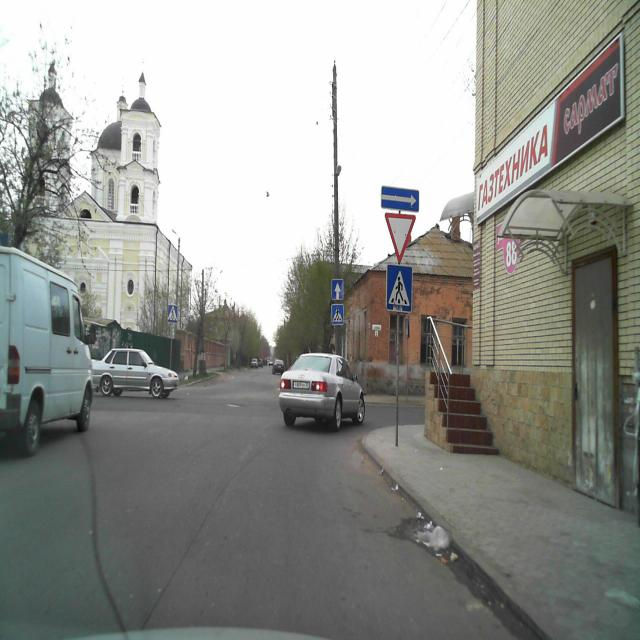road sign: (385, 213, 416, 263), (386, 262, 413, 313), (380, 185, 420, 212), (332, 278, 344, 300), (332, 303, 343, 324), (168, 303, 177, 322)
